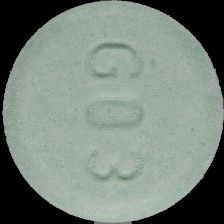49999-471: (0, 0, 224, 224)
